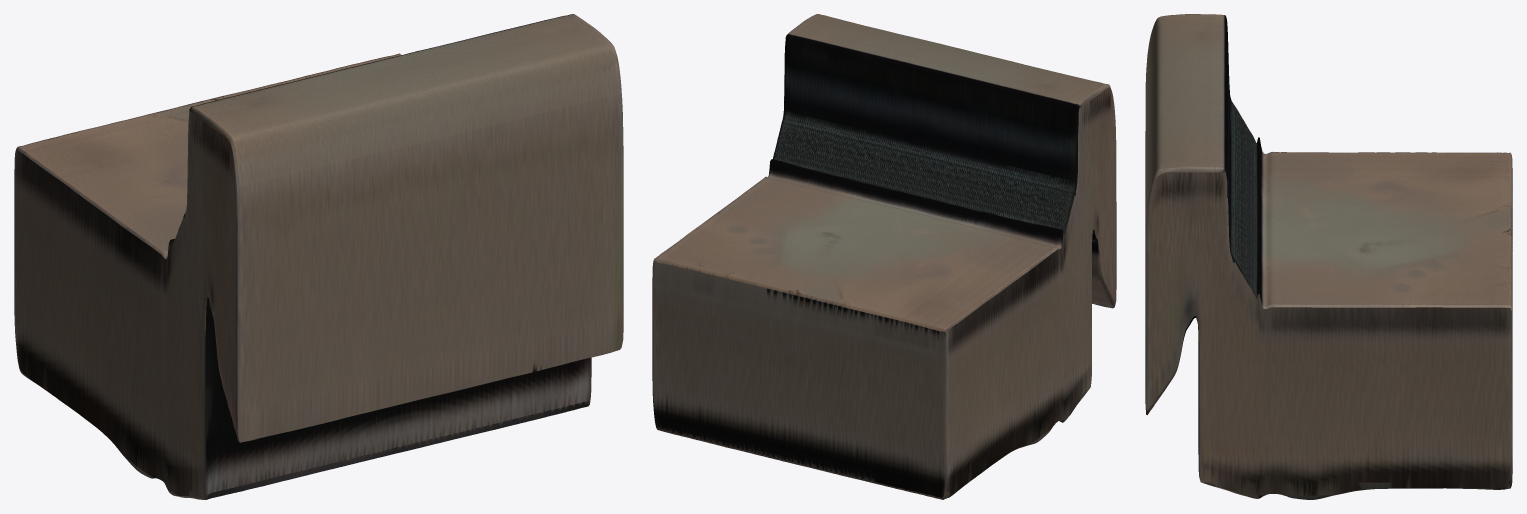
File: roof-flat.glb
3 views of the same model, side by side, from view 1: azimuth 30°, elevation 25°; view 2: azimuth 150°, elevation 25°; view 3: azimuth 270°, elevation 25° (orthographic). The views are drawn at different scales.
Visible parts, largest first — view 1: tmpcu4s1ege.ply; view 2: tmpcu4s1ege.ply; view 3: tmpcu4s1ege.ply.
Boxes of the visible parts, left/top/right/bottom form: tmpcu4s1ege.ply: left=14, top=14, right=623, bottom=499; tmpcu4s1ege.ply: left=652, top=14, right=1116, bottom=499; tmpcu4s1ege.ply: left=1145, top=14, right=1512, bottom=499.
Bounding box in the file's own units: 1 × 1 × 1.
Materials: 1 (1 with a texture image).
